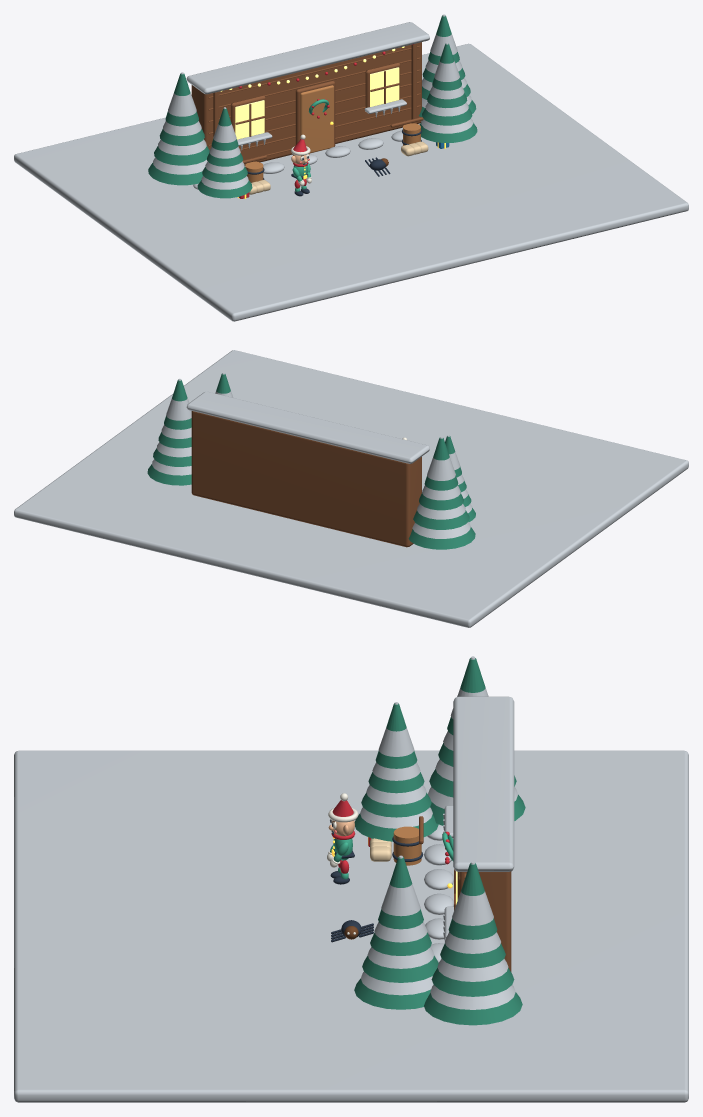
File: chapter-07.glb
3 views of the same model, one above another, from view 1: azimuth 30°, elevation 25°; view 2: azimuth 150°, elevation 25°; view 3: azimuth 270°, elevation 25° (orthographic). The views are drawn at different scales.
Visible parts, largest first — view 1: Schneeboden, Werkstatt, Schneegesims, Wichteltür, Warmes Fenster, Warmes Fenster.001, Tannenzweig.008, Tannenzweig.009, Türrahmen, Tannenzweig.011, Tannenzweig.004, Schnee.011 (+6 smaller); view 2: Schneeboden, Werkstatt, Schneegesims, Tannenzweig.008, Tannenzweig.009, Tannenzweig.011, Schnee.008, Schnee.011, Tannenzweig.015, Tannenzweig.012, Tannenzweig.010, Schnee.009 (+1 smaller); view 3: Schneeboden, Schneegesims, Werkstatt, Tannenzweig.012, Tannenzweig.013, Tannenzweig.015, Schnee.012, Tannenzweig.005, Tannenzweig.004, Schnee.015, Tannenzweig.007, Schnee.013 (+16 smaller).
Boxes of the visible parts, box(x1,y1,x2,y2) form: Schneeboden: box(14, 43, 688, 321); Werkstatt: box(191, 42, 421, 165); Schneegesims: box(186, 22, 429, 94); Wichteltür: box(300, 85, 333, 153); Warmes Fenster: box(235, 100, 264, 139); Warmes Fenster.001: box(370, 67, 399, 106); Tannenzweig.008: box(148, 163, 202, 185); Tannenzweig.009: box(154, 146, 209, 165); Türrahmen: box(295, 81, 335, 146); Tannenzweig.011: box(165, 73, 198, 126); Tannenzweig.004: box(419, 122, 477, 142); Schnee.011: box(168, 72, 196, 116); Schneeboden: box(14, 350, 688, 627); Werkstatt: box(191, 411, 421, 547); Schneegesims: box(186, 391, 429, 463); Tannenzweig.008: box(408, 527, 475, 549); Tannenzweig.009: box(413, 510, 469, 529); Tannenzweig.011: box(424, 437, 458, 490); Schnee.008: box(412, 522, 470, 538); Schnee.011: box(427, 436, 455, 480); Tannenzweig.015: box(164, 380, 191, 429); Tannenzweig.012: box(147, 464, 191, 485); Tannenzweig.010: box(419, 493, 463, 510); Schnee.009: box(417, 504, 465, 519); Schneeboden: box(14, 750, 688, 1102); Schneegesims: box(453, 696, 514, 871); Werkstatt: box(466, 871, 511, 971); Tannenzweig.012: box(424, 992, 522, 1025); Tannenzweig.013: box(431, 968, 514, 996); Tannenzweig.015: box(448, 863, 497, 939); Schnee.012: box(430, 985, 515, 1009); Tannenzweig.005: box(362, 955, 438, 982); Tannenzweig.004: box(354, 978, 430, 1009); Schnee.015: box(452, 861, 493, 925); Tannenzweig.007: box(378, 857, 423, 929); Schnee.013: box(437, 959, 508, 981).
Bounding box in the file's own units: 18 × 4.39 × 15.
